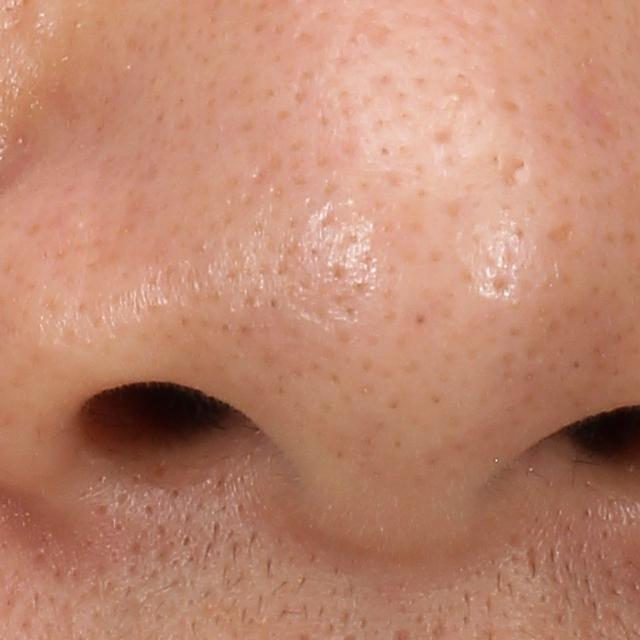atrophic_scar: (347, 4, 393, 46), (540, 221, 577, 252), (500, 156, 528, 193), (429, 123, 454, 149)
